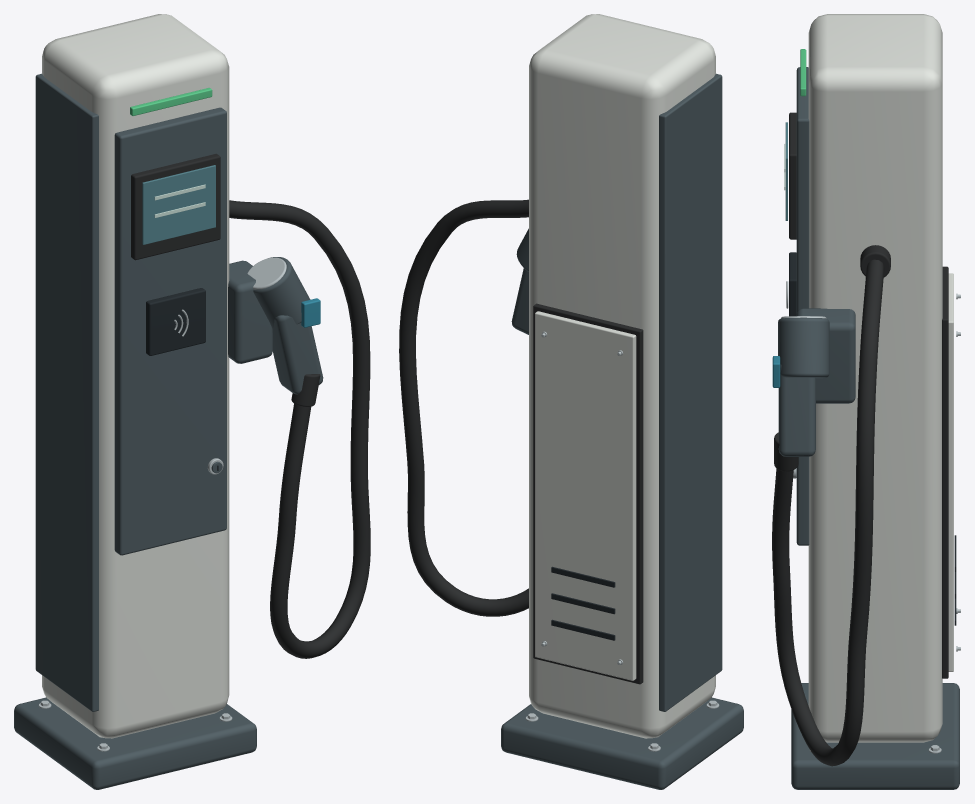
Rendered from city-ev-charger.glb.
3 views of the same model, side by side, from view 1: azimuth 30°, elevation 25°; view 2: azimuth 150°, elevation 25°; view 3: azimuth 270°, elevation 25° (orthographic).
Parts seen in each view (by area): view 1: Charging pedestal body, Dark side impact strip, Front dark fascia, Charging cable, Charging post foundation, Charging status display, Connector holster bracket, Front display bezel, Contactless payment pad, Holstered connector grip, Connector head, Connector collar (+2 smaller); view 2: Charging pedestal body, Dark side impact strip, Rear service door, Charging post foundation, Charging cable, Rear service gasket, Holstered connector grip; view 3: Charging pedestal body, Charging cable, Charging post foundation, Front dark fascia, Connector holster bracket, Connector head, Holstered connector grip, Rear service gasket, Rear service door, Front display bezel, Cable gland, Contactless payment pad (+1 smaller).
Part boxes in pixels (x1,y1,x2,y2): Charging pedestal body: [42, 14, 229, 738]; Dark side impact strip: [35, 73, 98, 711]; Front dark fascia: [114, 107, 226, 555]; Charging cable: [229, 200, 370, 658]; Charging post foundation: [14, 697, 256, 789]; Charging status display: [142, 165, 215, 244]; Connector holster bracket: [228, 260, 272, 363]; Front display bezel: [131, 153, 220, 260]; Contactless payment pad: [146, 288, 205, 355]; Holstered connector grip: [272, 315, 323, 394]; Connector head: [253, 257, 310, 328]; Connector collar: [247, 257, 286, 289]; Charging pedestal body: [529, 14, 715, 738]; Dark side impact strip: [659, 73, 722, 711]; Rear service door: [535, 311, 636, 680]; Charging post foundation: [501, 697, 743, 789]; Charging cable: [399, 199, 528, 616]; Rear service gasket: [533, 303, 643, 684]; Holstered connector grip: [511, 268, 528, 334]; Charging pedestal body: [808, 14, 942, 742]; Charging cable: [772, 259, 884, 766]; Charging post foundation: [791, 683, 959, 789]; Front dark fascia: [796, 67, 809, 545]; Connector holster bracket: [796, 308, 855, 403]; Connector head: [778, 317, 829, 378]; Holstered connector grip: [778, 364, 815, 456]; Rear service gasket: [942, 266, 948, 678]; Rear service door: [948, 273, 953, 671]; Front display bezel: [789, 112, 796, 239]; Cable gland: [860, 245, 890, 277]; Contactless payment pad: [789, 252, 796, 316].
Size of the model in its own units: 0.735 by 1.58 by 0.381.
